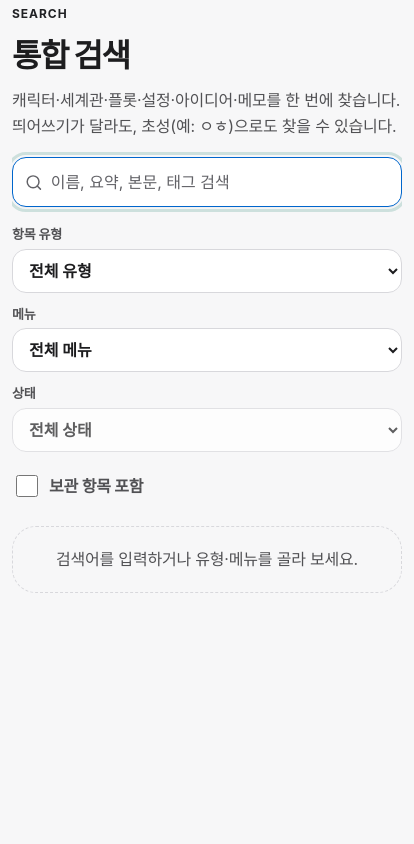
Task 13 search page › combines kind, menu, status, and archive filters in the URL
Select "플롯 장면" in the dropdown named "항목 유형 필터": (207,271) top-left (12, 249), bottom-right (402, 293)
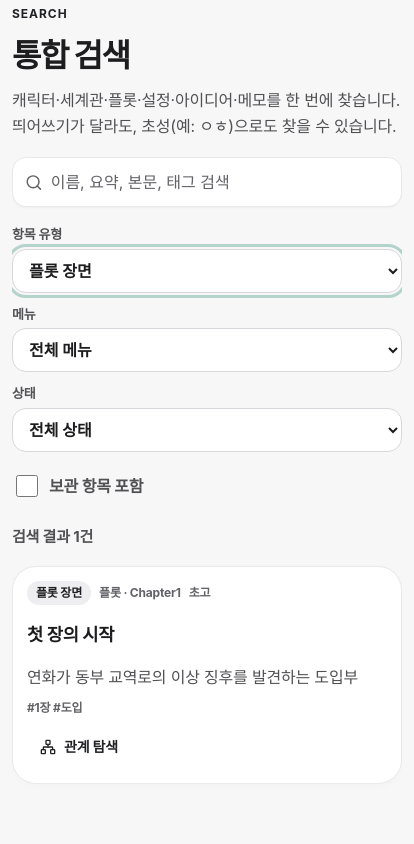
Click the checkbox labelled "보관 항목 포함": (27,486) top-left (16, 475), bottom-right (38, 497)
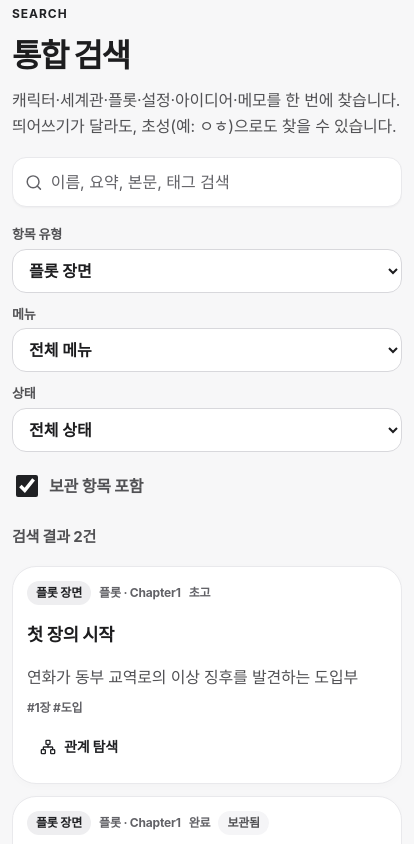
Now the text "보관됨" is shown, box top-left (218, 811), bottom-right (269, 835)
Select "완료" in the dropdown named "상태 필터": (207,430) top-left (12, 408), bottom-right (402, 452)
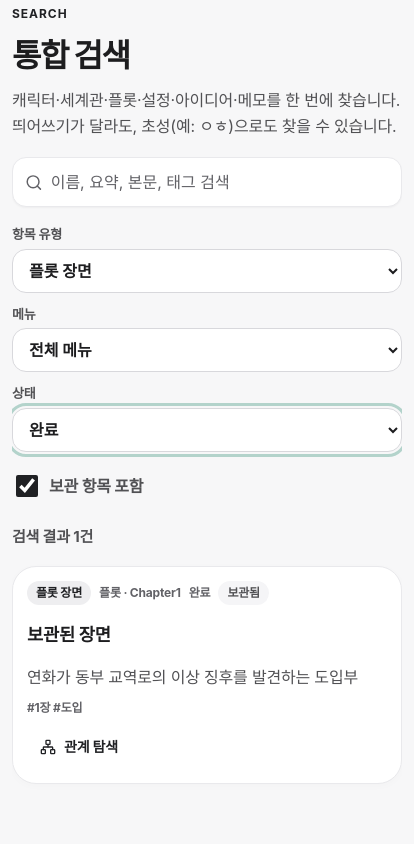
Select "Chapter2" in the dropdown named "메뉴 필터": (207,350) top-left (12, 328), bottom-right (402, 372)
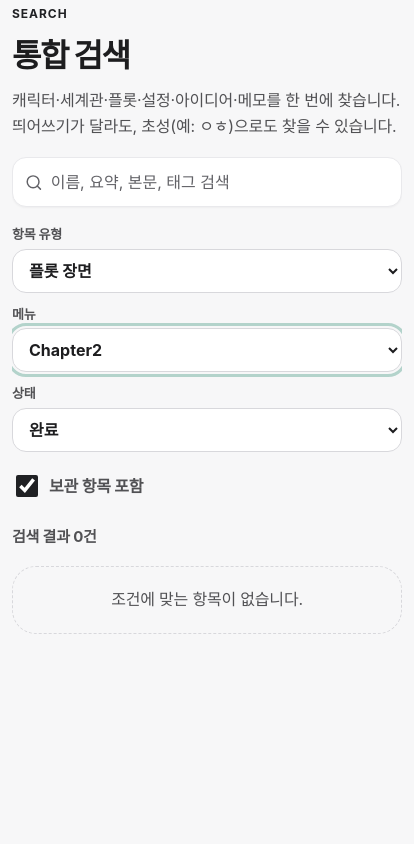
Now the text "조건에 맞는 항목이 없습니다." is shown, box top-left (12, 566), bottom-right (402, 634)
